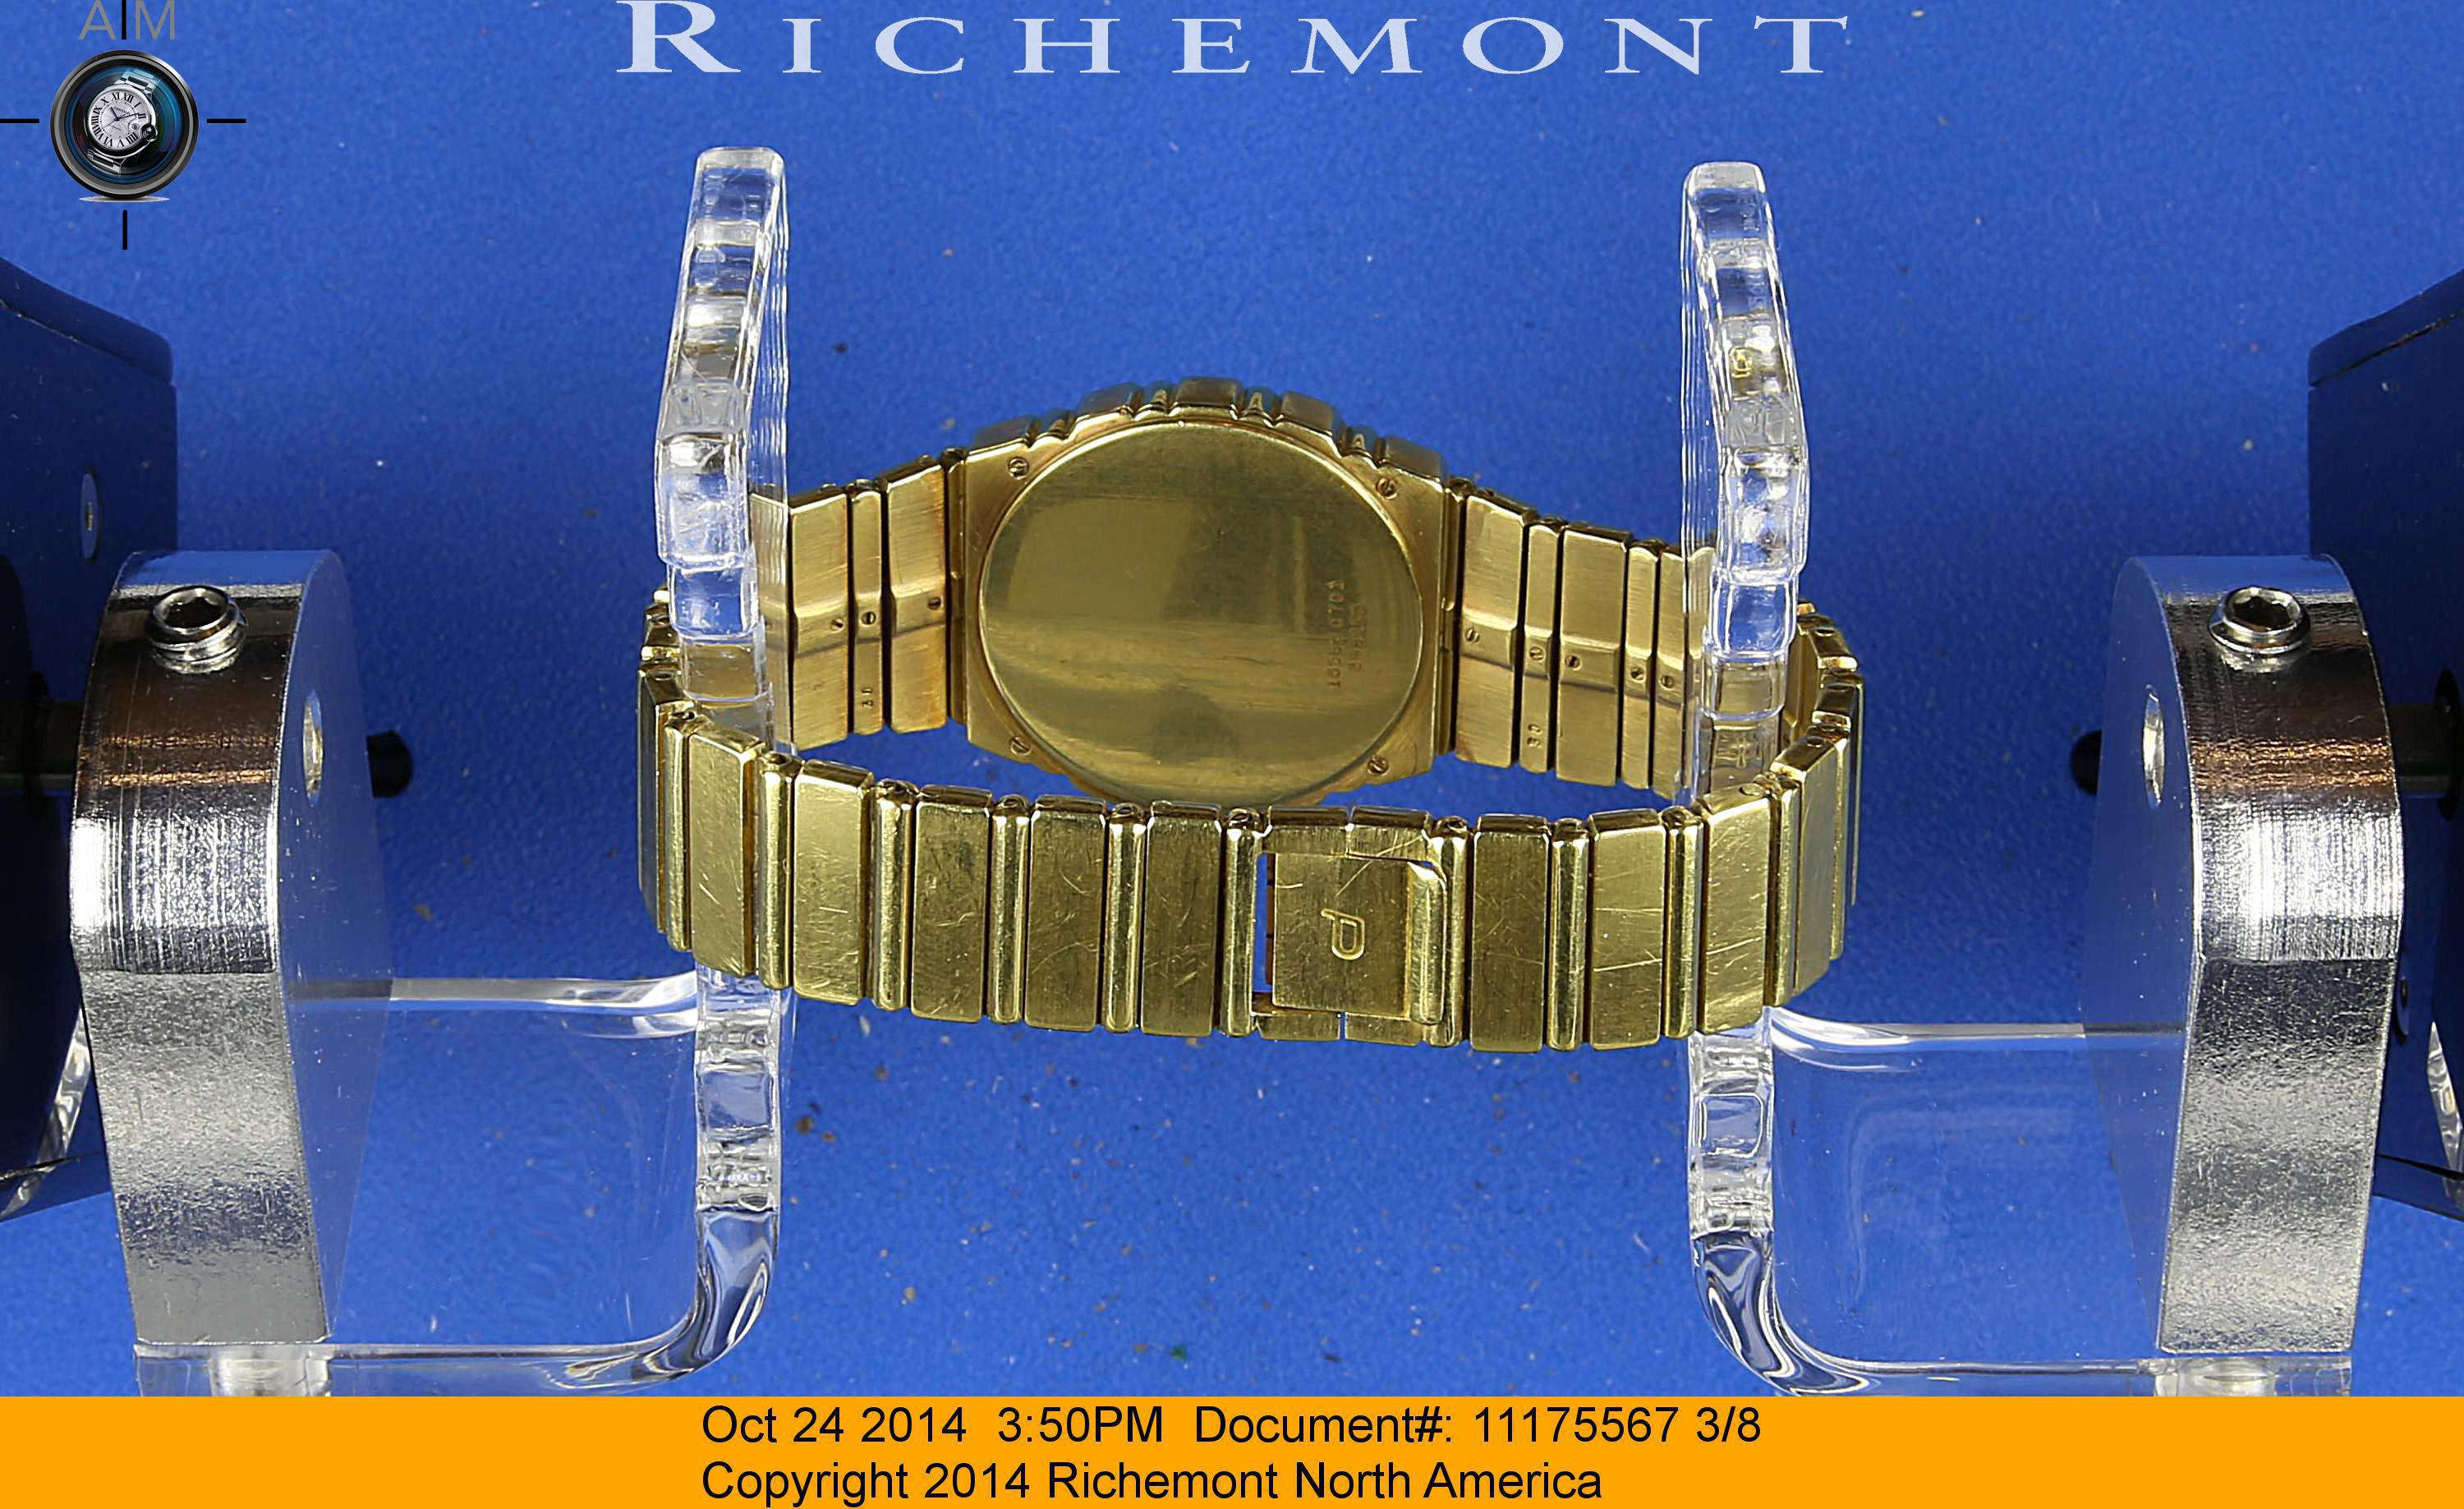Watch BackCase: (942, 386, 1447, 810)
